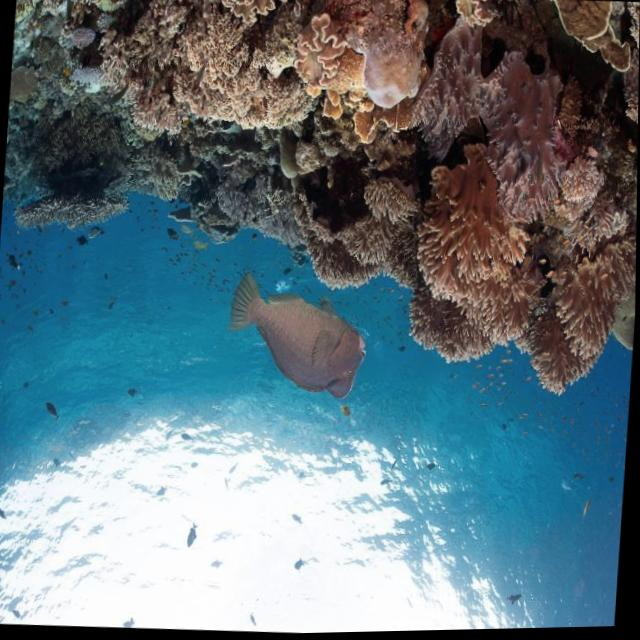Healthy Coral: (375, 36, 616, 200), (403, 148, 531, 371), (522, 245, 637, 402), (169, 17, 324, 133), (551, 1, 635, 72), (290, 16, 356, 90), (129, 96, 189, 136), (216, 0, 302, 19), (69, 23, 96, 47)
